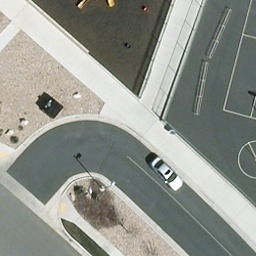car: (148, 157, 185, 192)
